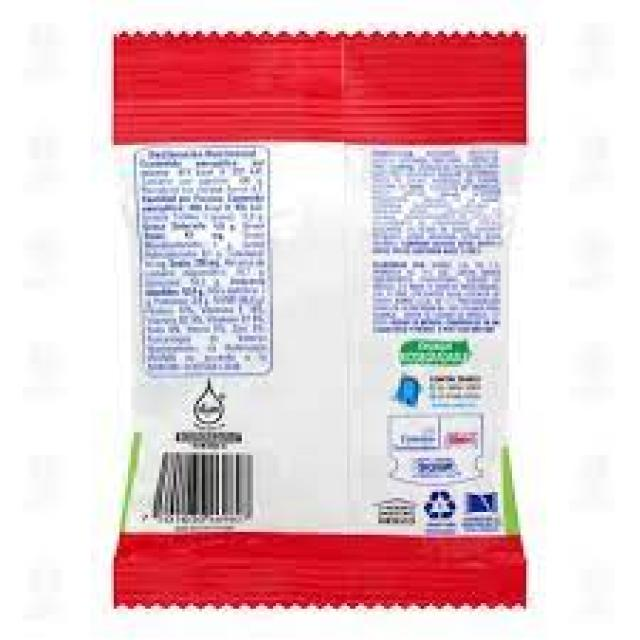Codigo_barras: (155, 453, 254, 528)
